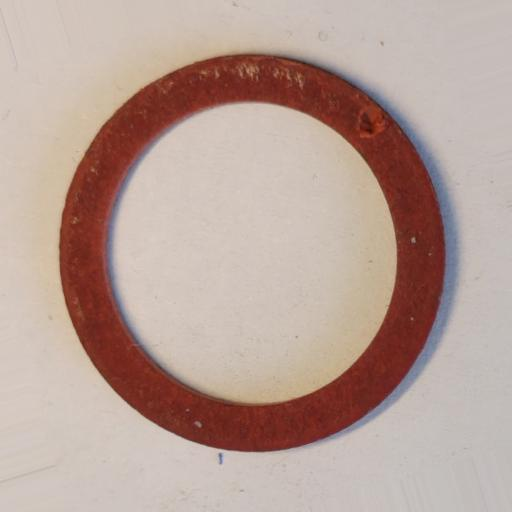defect: (358, 108, 387, 137)
